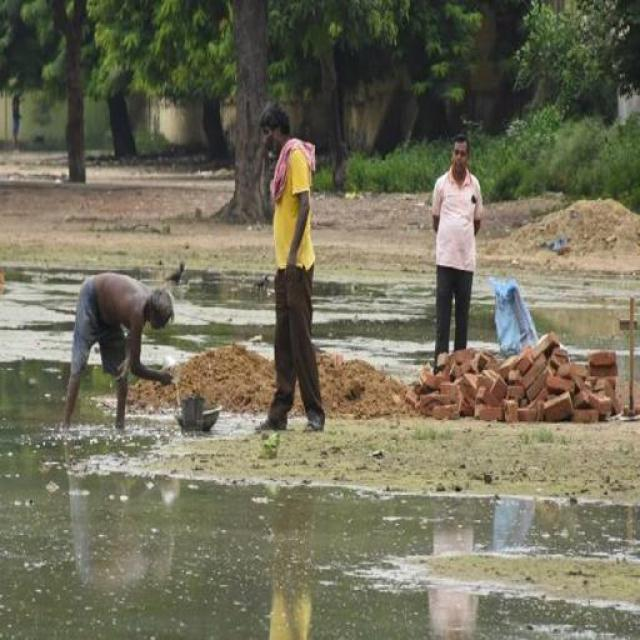puddle: (3, 472, 616, 558), (4, 582, 640, 640), (8, 412, 93, 640)
